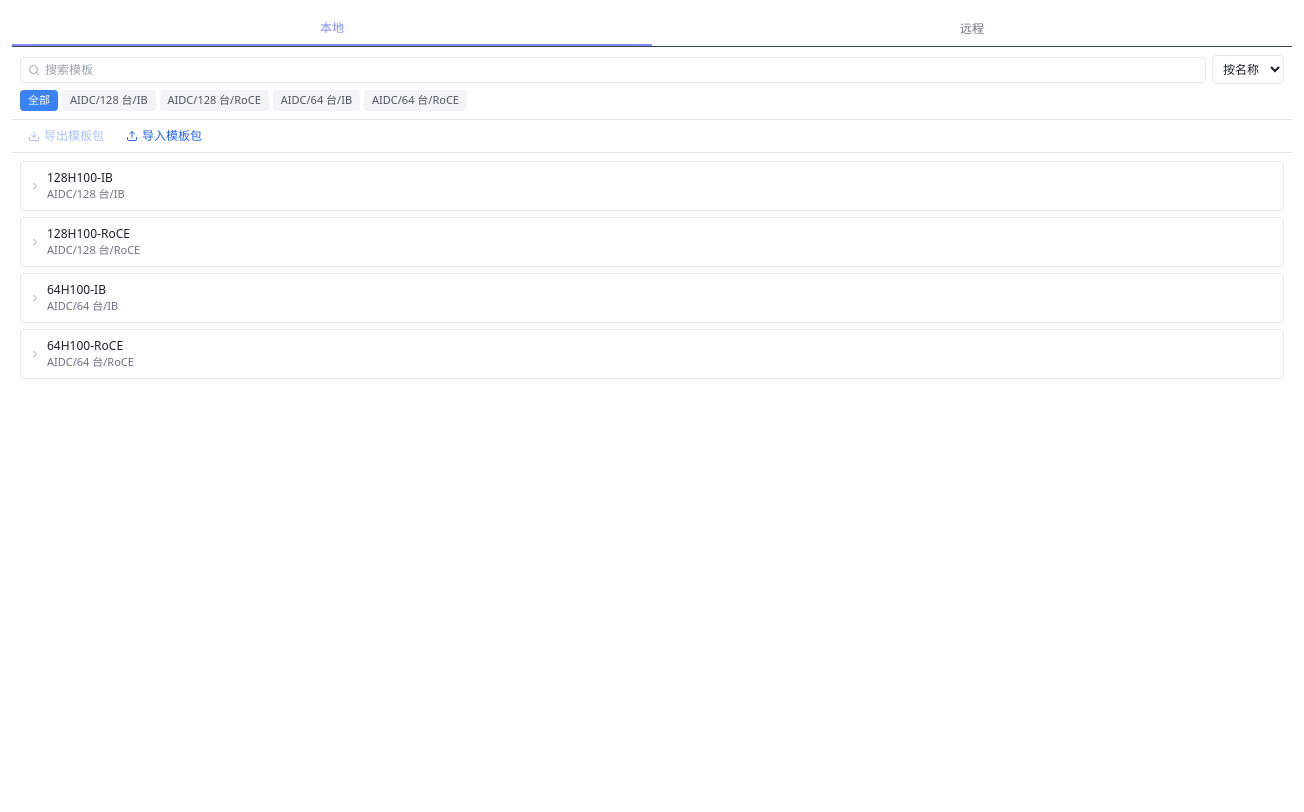
Scenario: 4.9.0 模板卡片分支（选中/质量/文件树/文件打开/发布） › 卡片可展开/收起
The image size is (1304, 812).
Click the text "64H100-IB" at (76, 290), box top-left (47, 282), bottom-right (106, 298)
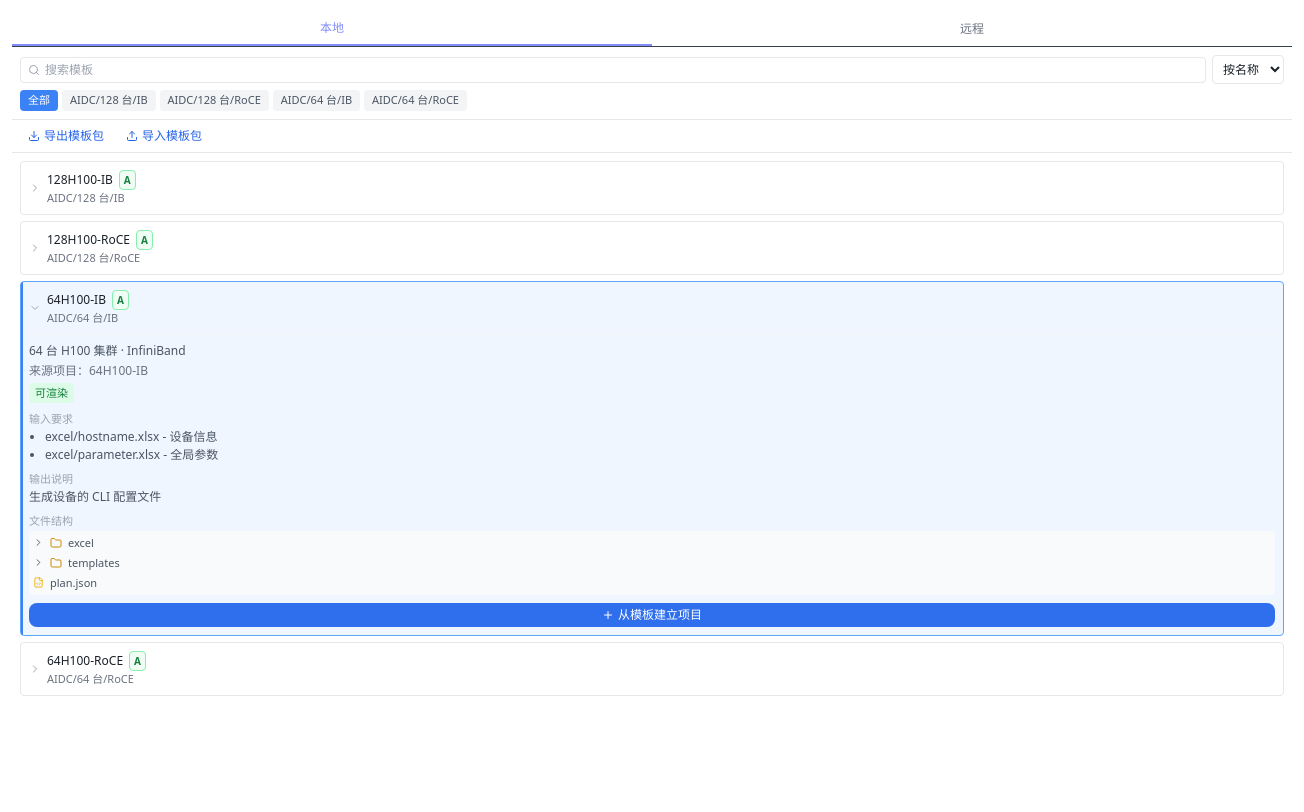
Expected: the text "64 台 H100 集群 · InfiniBand" is shown, top-left (29, 342), bottom-right (186, 358)
Click the text "64H100-IB" at (76, 300), box top-left (47, 292), bottom-right (106, 308)
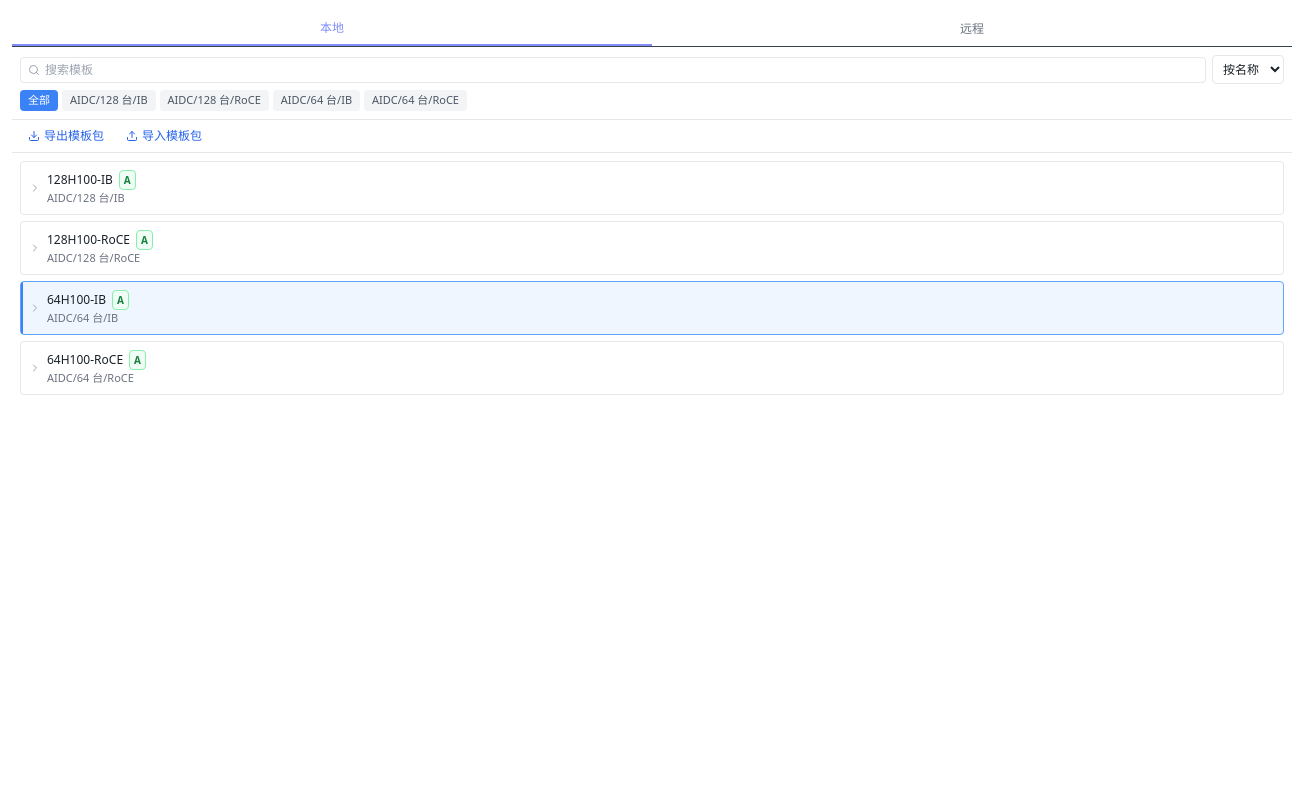
Expected: the text "64 台 H100 集群 · InfiniBand" is gone
